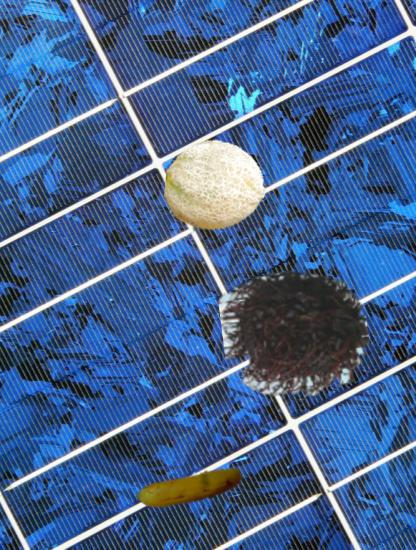Banana: (134, 433, 245, 544)
Cantaloupe: (165, 135, 266, 236)
Rambutan: (223, 263, 368, 408)
